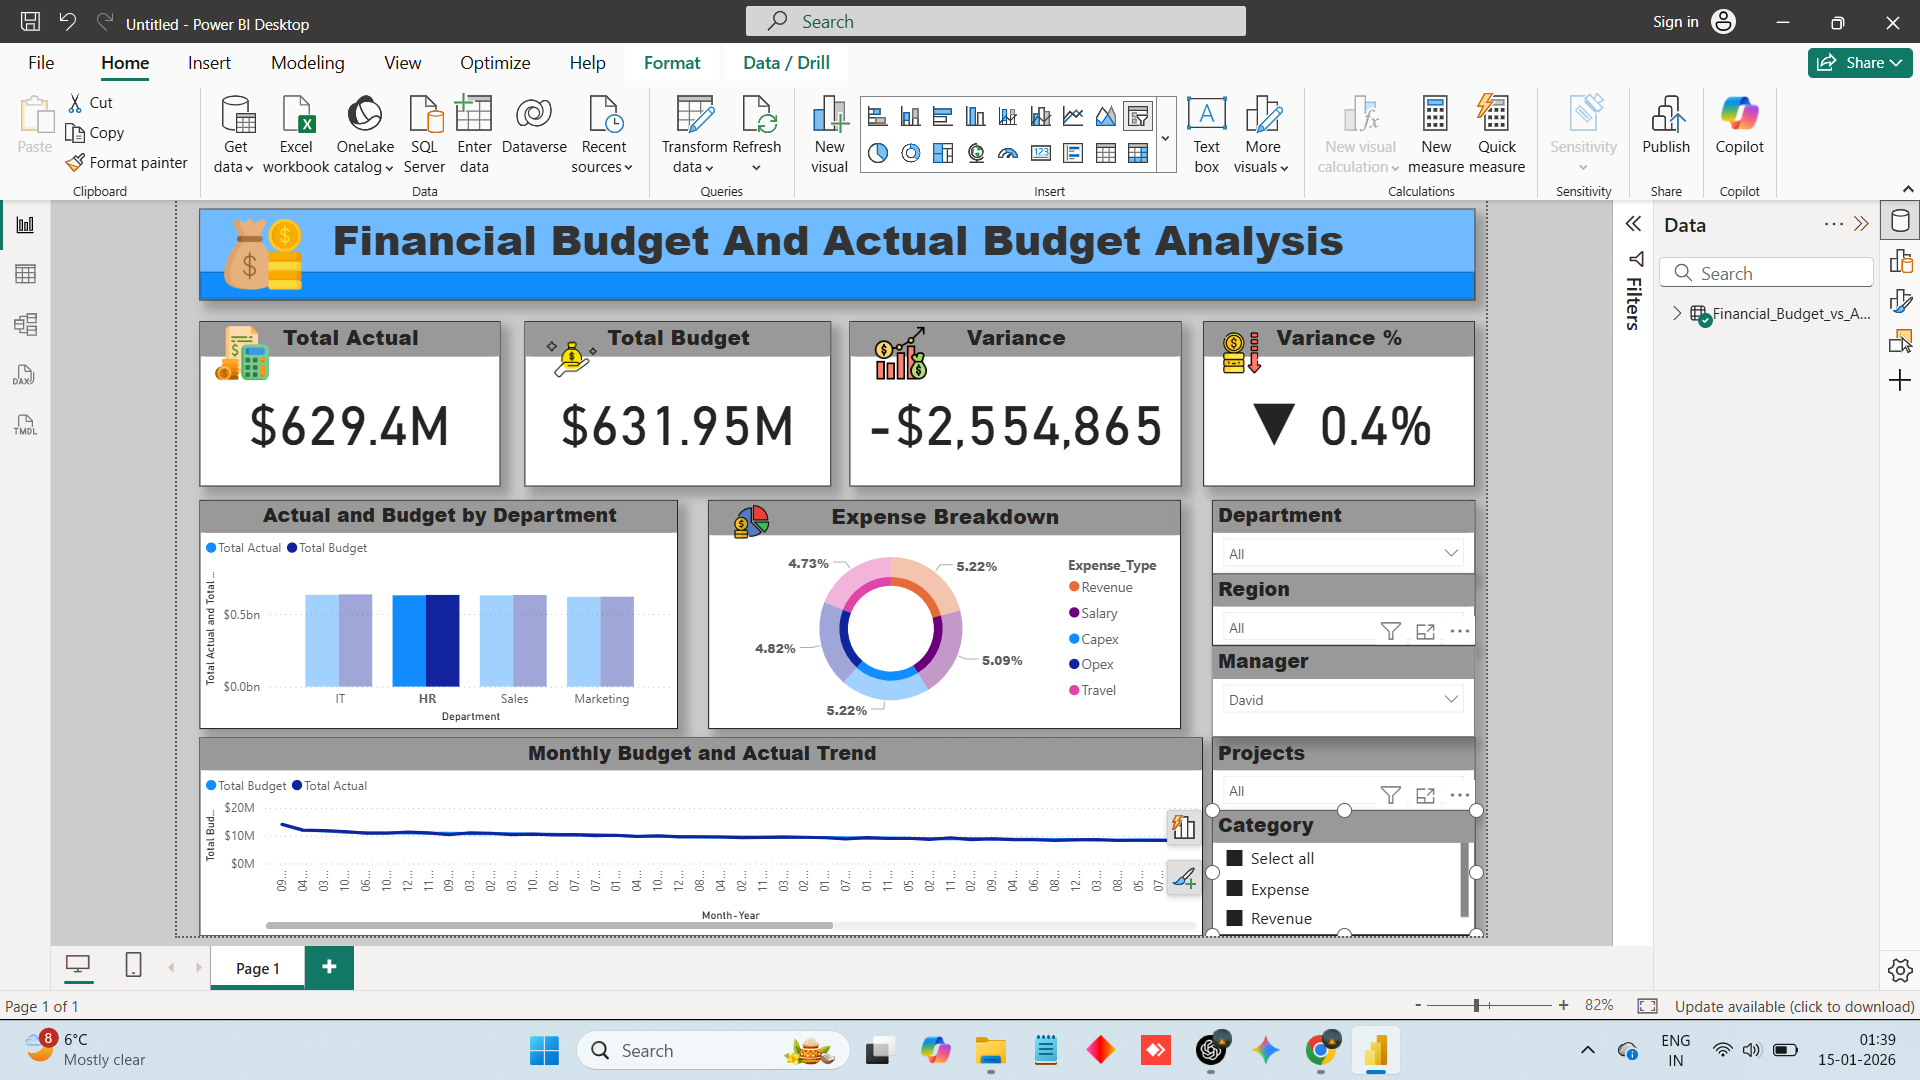

The page's visual inventory and layout, read from the dashboard file:
{"tool":"powerbi","page":{"name":"Page 1","canvas":[1280,720],"ordinal":0},"visuals":[{"type":"card","title":"Total Actual","fields":{"Values":["Financial_Budget_vs_Actual.Total Actual"]},"box":[21.6,118.3,294.3,161.6],"z":0},{"type":"card","title":"Total Budget","fields":{"Values":["Financial_Budget_vs_Actual.Total Budget"]},"box":[340.5,118.3,300.1,161.6],"z":1000},{"type":"card","title":"Variance %","fields":{"Values":["Financial_Budget_vs_Actual.% Variance"]},"box":[1004.2,118.3,265.5,161.6],"z":2000},{"type":"card","title":"Variance","fields":{"Values":["Financial_Budget_vs_Actual.Variance Measure"]},"box":[657.9,118.3,324.6,161.6],"z":3000},{"type":"shape","title":"Financial Budget And Actual Budget Analysis","box":[21.6,8.7,1248,89.5],"z":4000},{"type":"clusteredColumnChart","title":"Actual and Budget by Department","fields":{"Category":["Financial_Budget_vs_Actual.Department"],"Y":["Financial_Budget_vs_Actual.Total Actual","Financial_Budget_vs_Actual.Total Budget"]},"box":[22,293.5,468.3,223.8],"z":5000},{"type":"donutChart","title":"Expense Breakdown","fields":{"Category":["Financial_Budget_vs_Actual.Expense_Type"],"Y":["Financial_Budget_vs_Actual.Total Actual"]},"box":[519.7,293.5,462.2,223.8],"z":6000},{"type":"lineChart","title":"Monthly Budget and Actual Trend","fields":{"Category":["Financial_Budget_vs_Actual.Month-Year"],"Y":["Financial_Budget_vs_Actual.Total Budget","Financial_Budget_vs_Actual.Total Actual"]},"box":[22,525.8,981.9,194.4],"z":7000},{"type":"slicer","title":"Department","fields":{"Values":["Financial_Budget_vs_Actual.Department"]},"box":[1012.9,293.5,257.3,72.5],"z":8000},{"type":"slicer","title":"Region","fields":{"Values":["Financial_Budget_vs_Actual.Region"]},"box":[1012.9,366,257.3,70.7],"z":9000},{"type":"slicer","title":"Projects","fields":{"Values":["Financial_Budget_vs_Actual.Project"]},"box":[1012.9,525.5,257.3,74.3],"z":10000},{"type":"slicer","title":"Manager","fields":{"Values":["Financial_Budget_vs_Actual.Manager"]},"box":[1012.9,436.7,257.3,88.8],"z":11000},{"type":"slicer","title":"Category","fields":{"Values":["Financial_Budget_vs_Actual.Category"]},"box":[1012.9,596.2,257.3,123.2],"z":13000},{"type":"image","box":[22,8.6,124.7,89.3],"z":13001},{"type":"image","box":[539.3,280,47.7,69.7],"z":13002},{"type":"image","box":[22,118.6,83.2,62.4],"z":13003},{"type":"image","box":[1012.5,124.7,59.9,50.1],"z":13004},{"type":"image","box":[673.8,118.6,68.5,62.4],"z":13005},{"type":"image","box":[352.2,118.6,68.5,74.6],"z":13006}]}

Visuals, with their boxes on the page's 1280x720 design canvas (x1, y1, x2, y2). These are canvas units, not pixel positions in the 1920x1080 screenshot, which may show the page scaled, cropped or inside an application window:
"Total Actual" card: l=22, t=118, r=316, b=280
"Total Budget" card: l=340, t=118, r=641, b=280
"Variance %" card: l=1004, t=118, r=1270, b=280
"Variance" card: l=658, t=118, r=982, b=280
"Financial Budget And Actual Budget Analysis" shape: l=22, t=9, r=1270, b=98
"Actual and Budget by Department" clusteredColumnChart: l=22, t=294, r=490, b=517
"Expense Breakdown" donutChart: l=520, t=294, r=982, b=517
"Monthly Budget and Actual Trend" lineChart: l=22, t=526, r=1004, b=720
"Department" slicer: l=1013, t=294, r=1270, b=366
"Region" slicer: l=1013, t=366, r=1270, b=437
"Projects" slicer: l=1013, t=526, r=1270, b=600
"Manager" slicer: l=1013, t=437, r=1270, b=526
"Category" slicer: l=1013, t=596, r=1270, b=719
image: l=22, t=9, r=147, b=98
image: l=539, t=280, r=587, b=350
image: l=22, t=119, r=105, b=181
image: l=1012, t=125, r=1072, b=175
image: l=674, t=119, r=742, b=181
image: l=352, t=119, r=421, b=193
